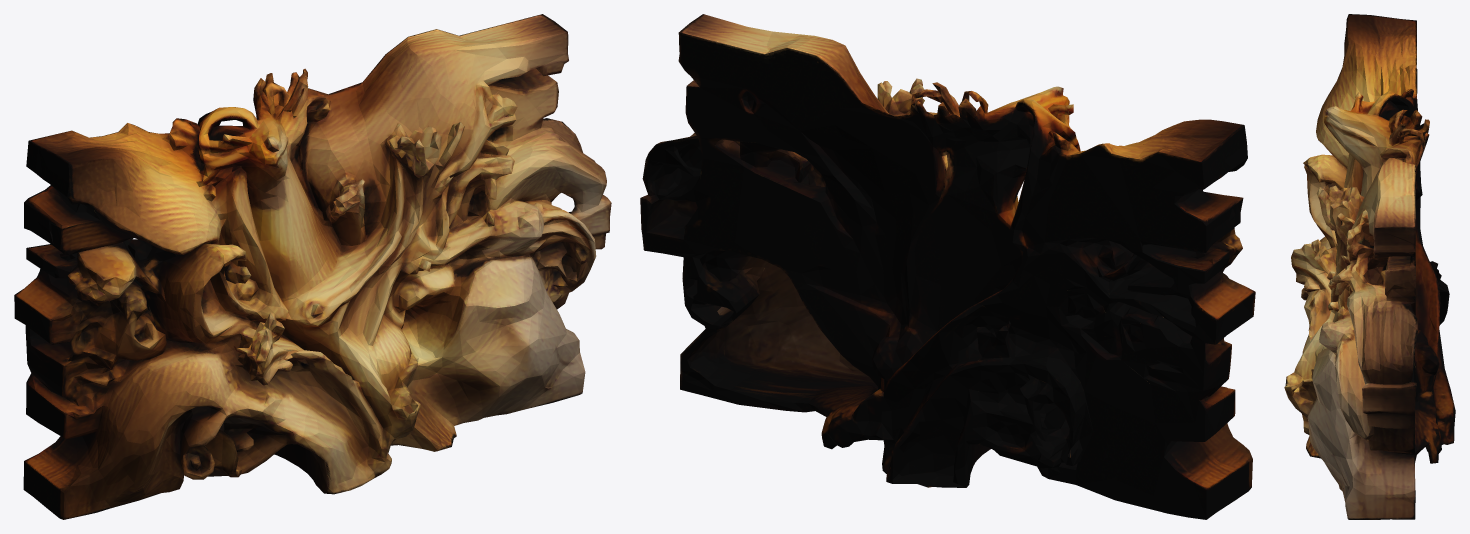
The model's file is wooden-wall-art-rustic.jpeg.glb.
3 views of the same model, side by side, from view 1: azimuth 30°, elevation 25°; view 2: azimuth 150°, elevation 25°; view 3: azimuth 270°, elevation 25° (orthographic). The views are drawn at different scales.
Parts seen in each view (by area): view 1: world; view 2: world; view 3: world.
Boxes of the visible parts, box(x1,y1,x2,y2) form: world: box(14, 14, 611, 519); world: box(640, 14, 1255, 519); world: box(1284, 14, 1455, 519).
Bounding box in the file's own units: 0.9917 × 0.6406 × 0.3116.
1 material, 1 textured.
